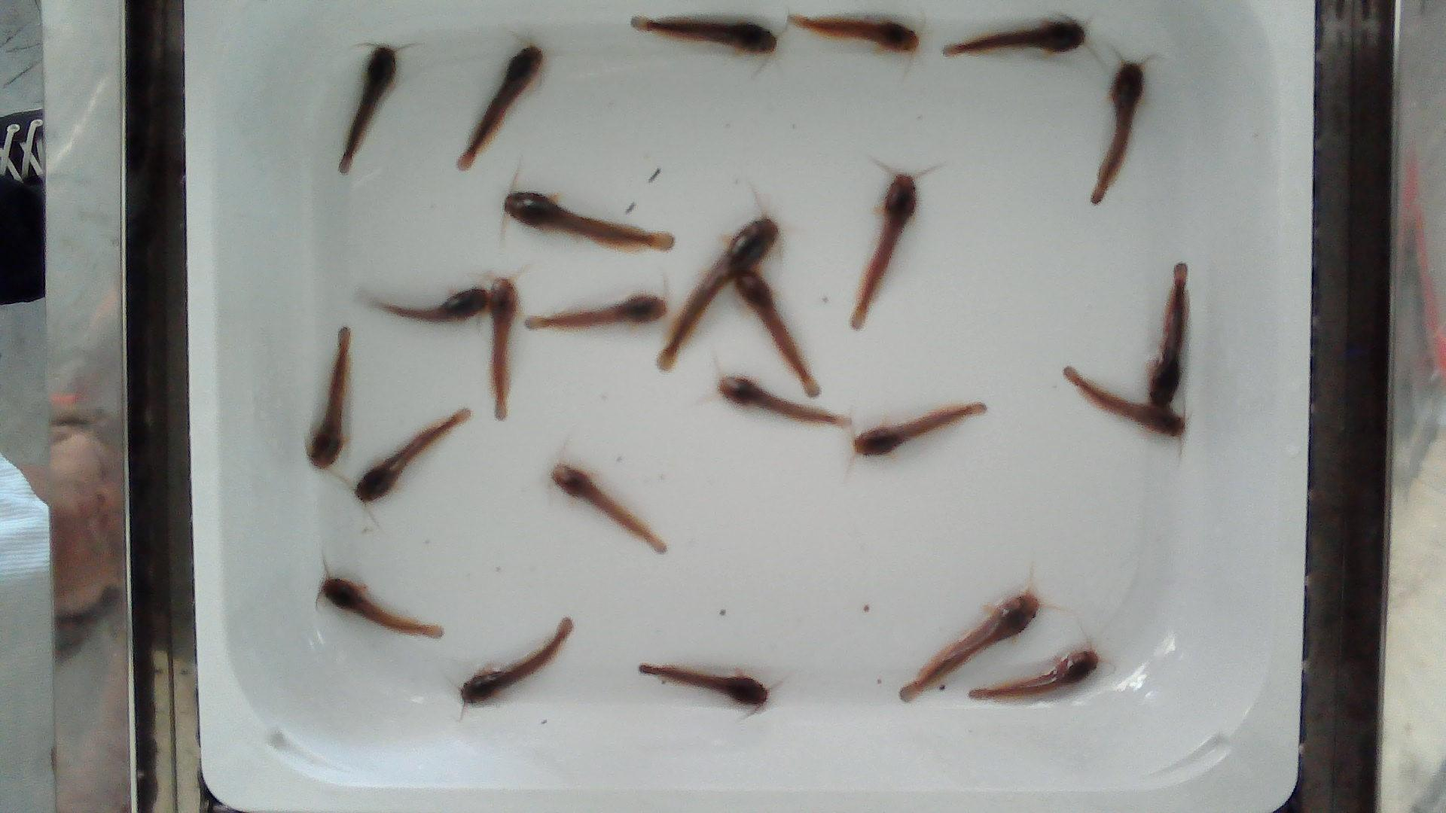lele: (654, 215, 777, 372), (902, 571, 1040, 694), (850, 166, 923, 329), (355, 408, 470, 501), (733, 272, 819, 396), (551, 462, 667, 553), (505, 191, 674, 250), (464, 45, 544, 157), (460, 628, 569, 710), (1063, 366, 1184, 438), (969, 644, 1116, 700), (320, 574, 443, 638), (639, 662, 771, 720), (338, 45, 397, 173), (1091, 61, 1144, 203), (853, 403, 986, 455), (719, 376, 850, 426), (307, 326, 351, 468), (631, 16, 776, 55), (1149, 263, 1188, 401), (944, 20, 1085, 56), (529, 294, 667, 329), (789, 16, 919, 53), (488, 279, 519, 420), (370, 287, 492, 322), (1442, 9, 1445, 20)
